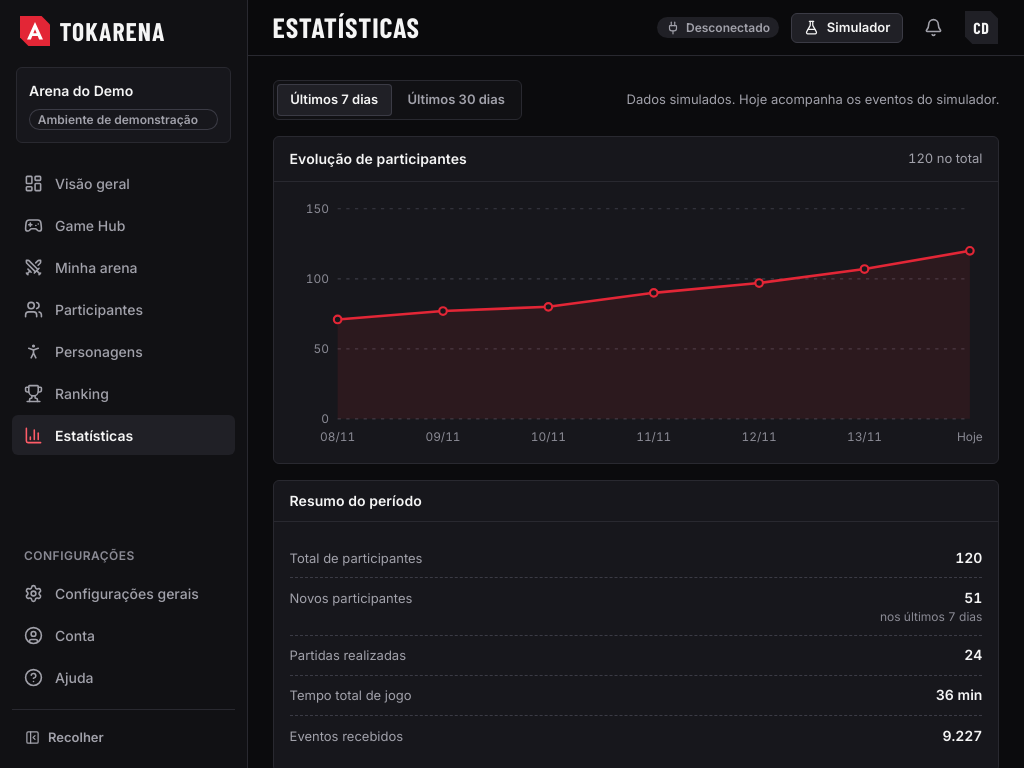
Test case: personagens, ranking e estatísticas › estatísticas mostram erro de carregamento e se recuperam ao tentar de novo
The image size is (1024, 768).
Expected: the heading "Resumo do período" is shown, left=290, top=493, right=422, bottom=509
Step 1. Click the radio button labelled "Últimos 30 dias" → (456, 99), box left=407, top=91, right=505, bottom=107
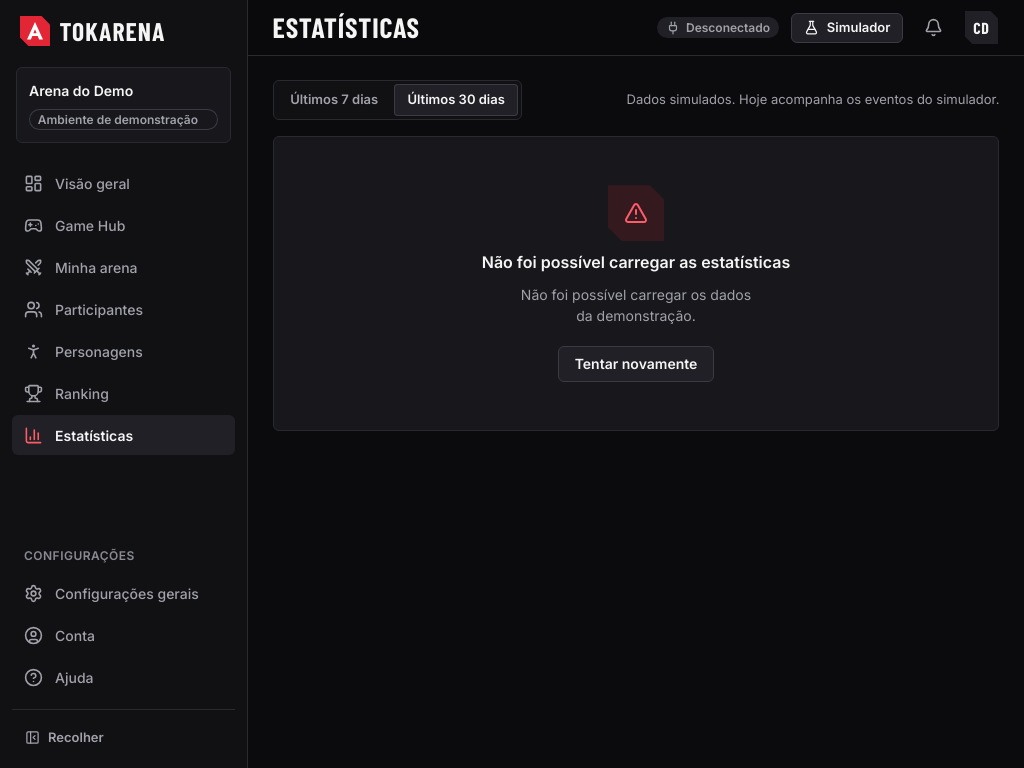
Expected: the heading "Não foi possível carregar as estatísticas" is shown, left=482, top=253, right=790, bottom=272
Step 2. Click the button "Tentar novamente" → (636, 364), box left=558, top=346, right=714, bottom=382
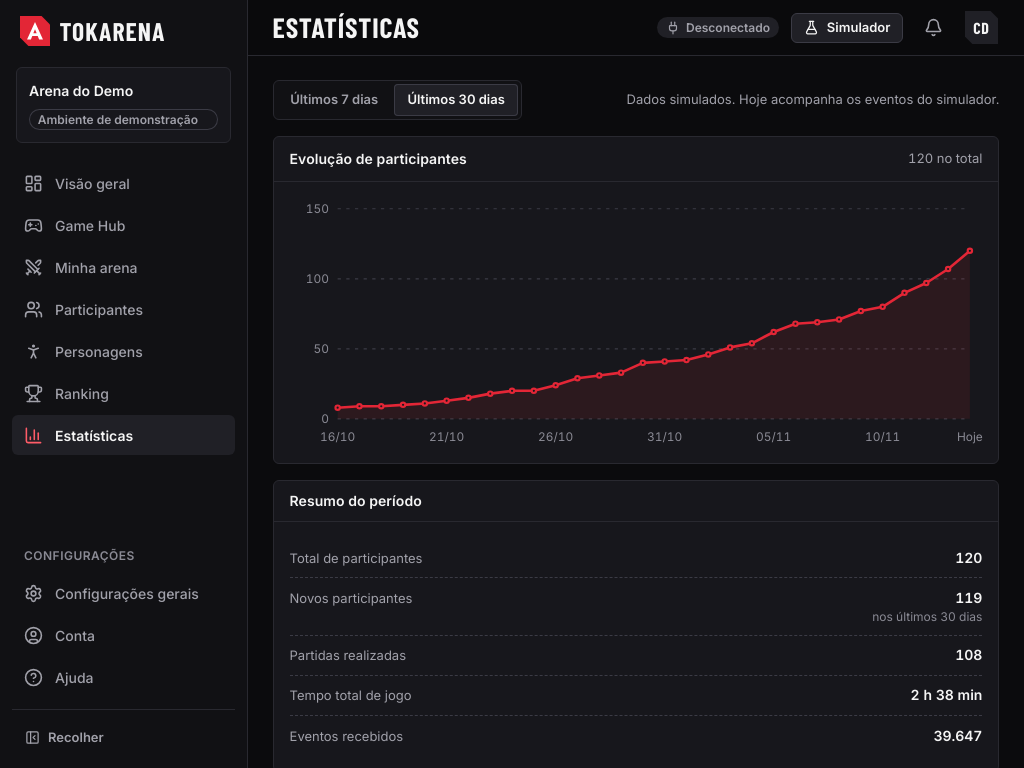
Expected: the heading "Resumo do período" is shown, left=290, top=493, right=422, bottom=509
